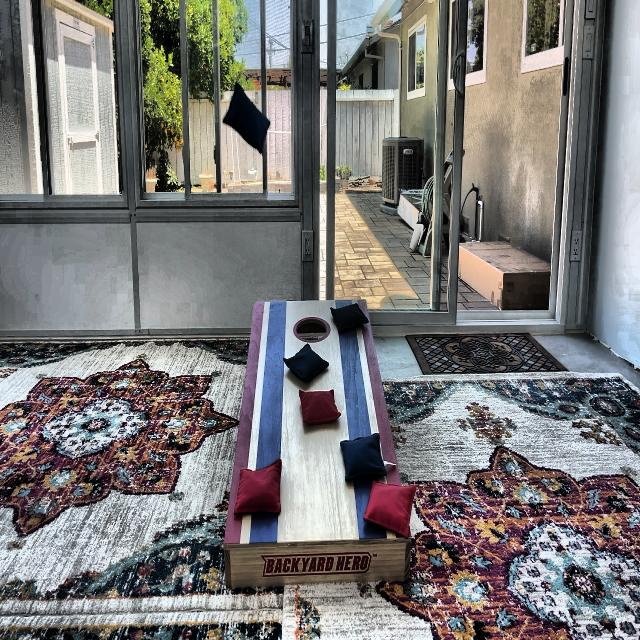blue-bean-bag: (222, 80, 271, 154), (340, 433, 388, 480), (284, 342, 329, 383), (330, 302, 369, 332)
board: (249, 300, 374, 542)
hole: (293, 314, 330, 344)
red-bean-bag: (364, 476, 417, 538), (235, 459, 282, 515), (299, 388, 341, 424)
